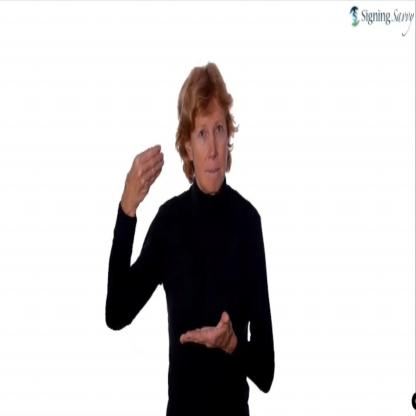Expensive: (126, 143, 238, 353)
